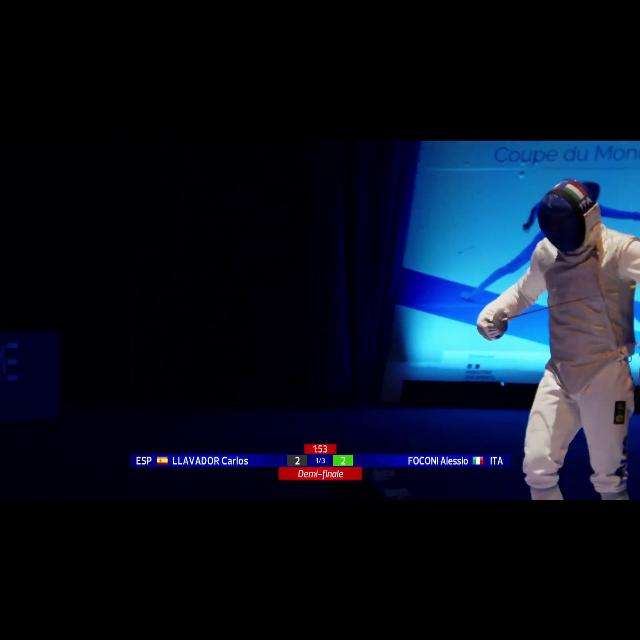blade: (486, 277, 640, 337)
